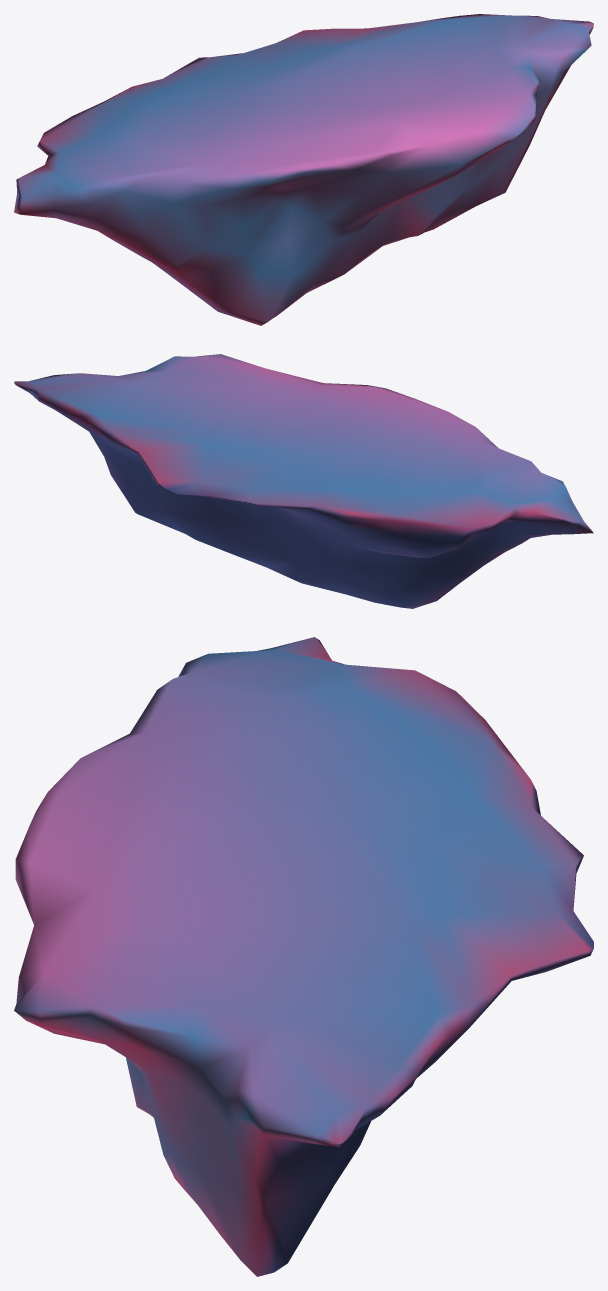
File: Platform_Rock_03.fbx
3 renders of one model, top to bottom at view 1: azimuth 30°, elevation 25°; view 2: azimuth 150°, elevation 25°; view 3: azimuth 270°, elevation 25°, orthographic. The views are drawn at different scales.
Visible parts, largest first — view 1: transform7; view 2: transform7; view 3: transform7.
Boxes of the visible parts, box(x1,y1,x2,y2) form: transform7: box(14, 14, 593, 325); transform7: box(14, 354, 593, 608); transform7: box(14, 637, 593, 1276).
Bounding box in the file's own units: 434 × 132 × 198.
